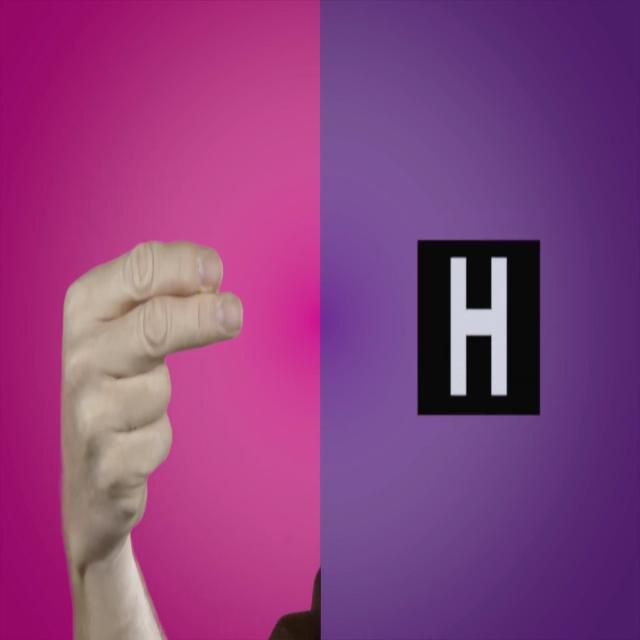H: (32, 164, 250, 640)
